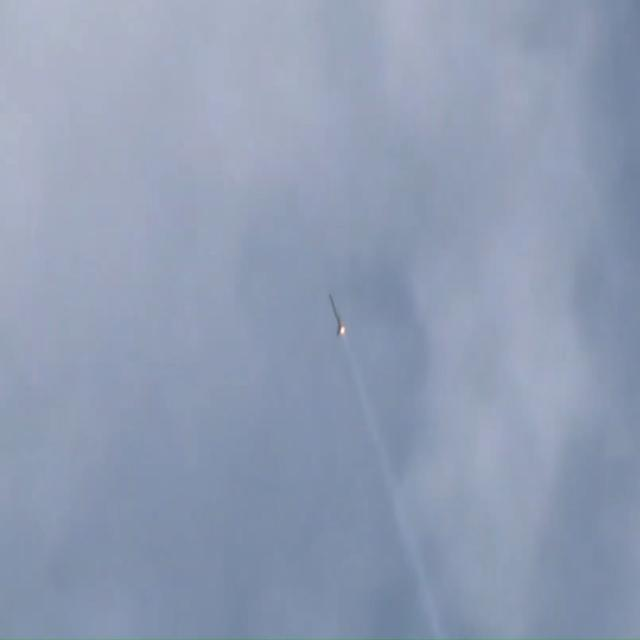Rocket: (330, 293, 340, 336)
